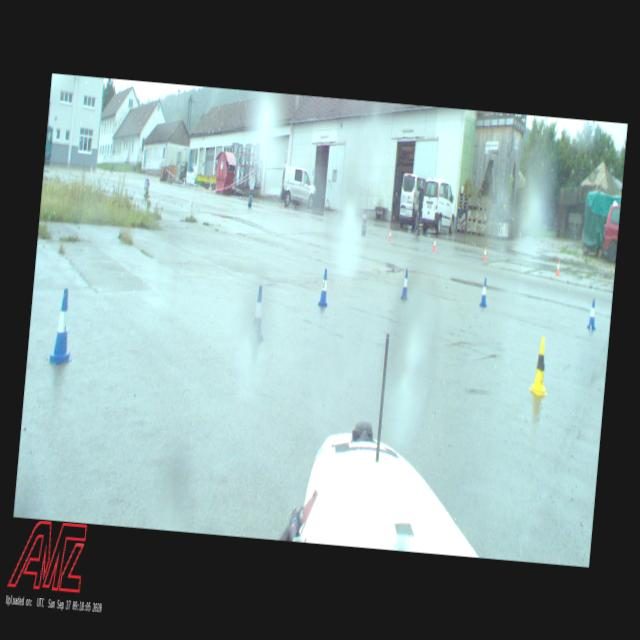blue_cone: (46, 288, 77, 366), (248, 286, 268, 342), (317, 268, 331, 306), (399, 268, 411, 300), (586, 298, 598, 329), (478, 276, 489, 306)
orange_cone: (482, 246, 488, 260), (556, 258, 560, 276), (432, 237, 436, 250), (388, 228, 392, 240)
yellow_cone: (528, 336, 552, 396)
